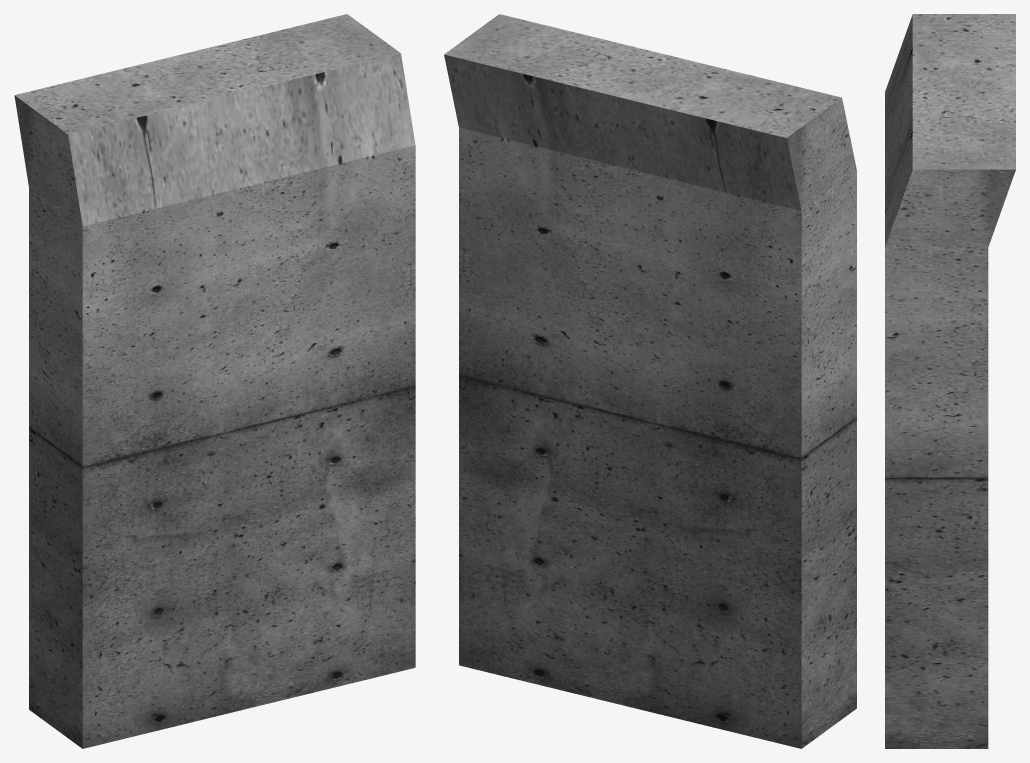
Rendered from wall.fbx.
The picture shows the model from 3 angles, left to right: view 1: azimuth 30°, elevation 25°; view 2: azimuth 150°, elevation 25°; view 3: azimuth 270°, elevation 25°; orthographic projection. The views are drawn at different scales.
Visible parts, largest first — view 1: Cube; view 2: Cube; view 3: Cube.
Boxes of the visible parts, x1,y1,x2,y2 form: Cube: [14, 14, 415, 748]; Cube: [444, 14, 856, 748]; Cube: [885, 14, 1015, 748].
Size of the model in its own units: 2 by 3.47 by 0.7104.
Materials: 1 (1 with a texture image).
